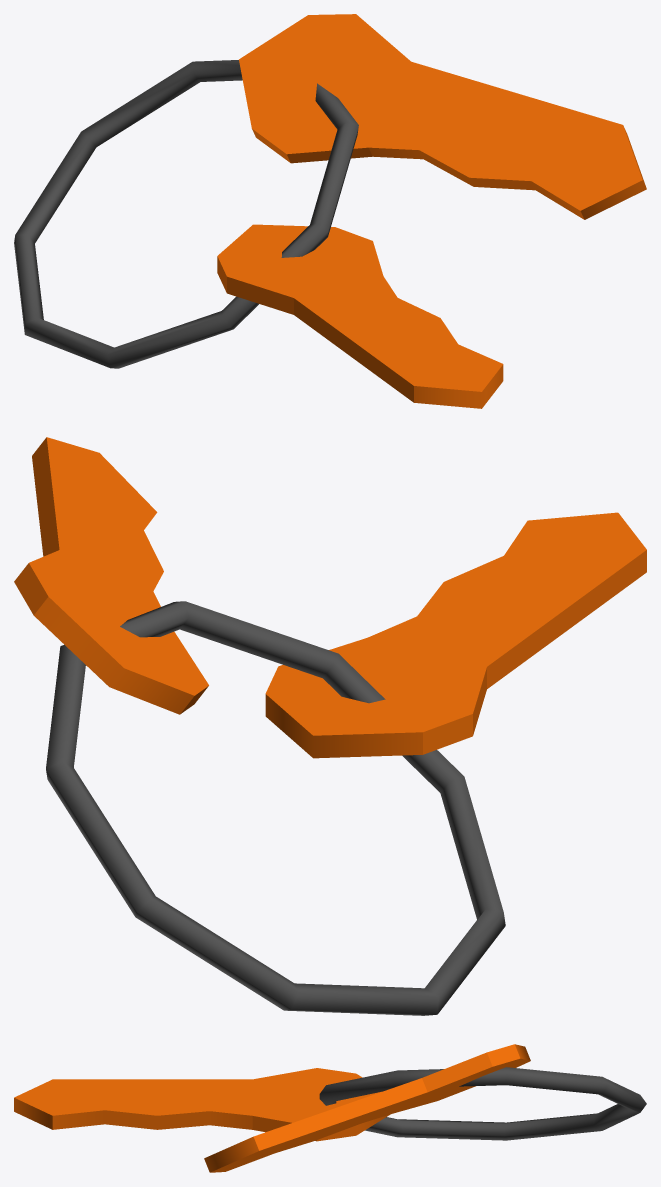
The model's file is keys.FBX.
3 views of the same model, one above another, from view 1: azimuth 30°, elevation 25°; view 2: azimuth 150°, elevation 25°; view 3: azimuth 270°, elevation 25° (orthographic). The views are drawn at different scales.
Parts seen in each view (by area): view 1: Torus001; view 2: Torus001; view 3: Torus001.
Part boxes in pixels (<box>): Torus001: <box>14,14,646,408</box>; Torus001: <box>14,437,646,1015</box>; Torus001: <box>14,1044,646,1172</box>.
Size of the model in its own units: 11.76 by 6.35 by 17.06.
